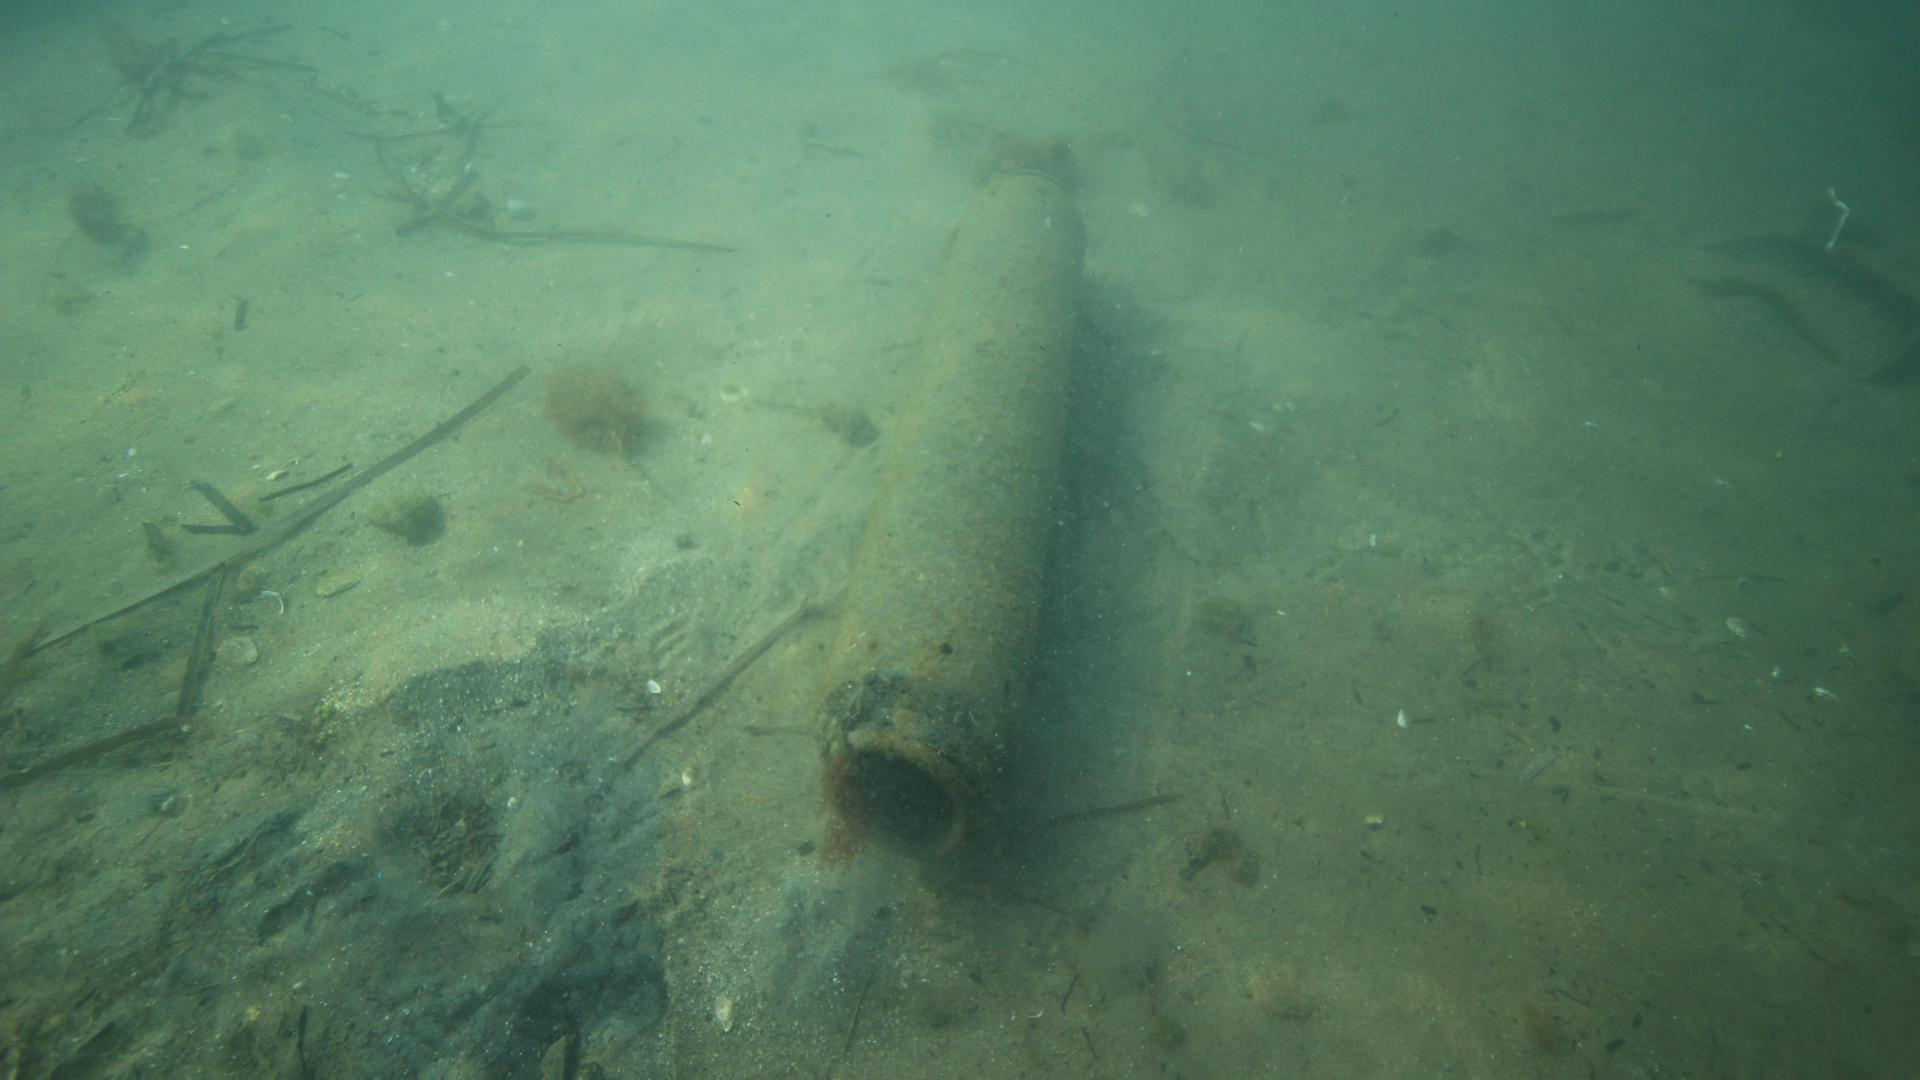eel fish trap: (808, 164, 1091, 866)
